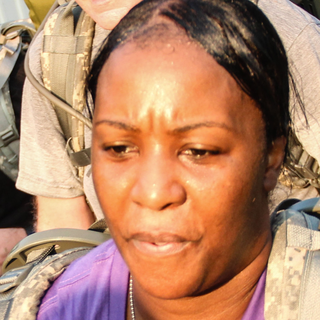eye: (176, 141, 226, 164), (96, 138, 141, 162)
